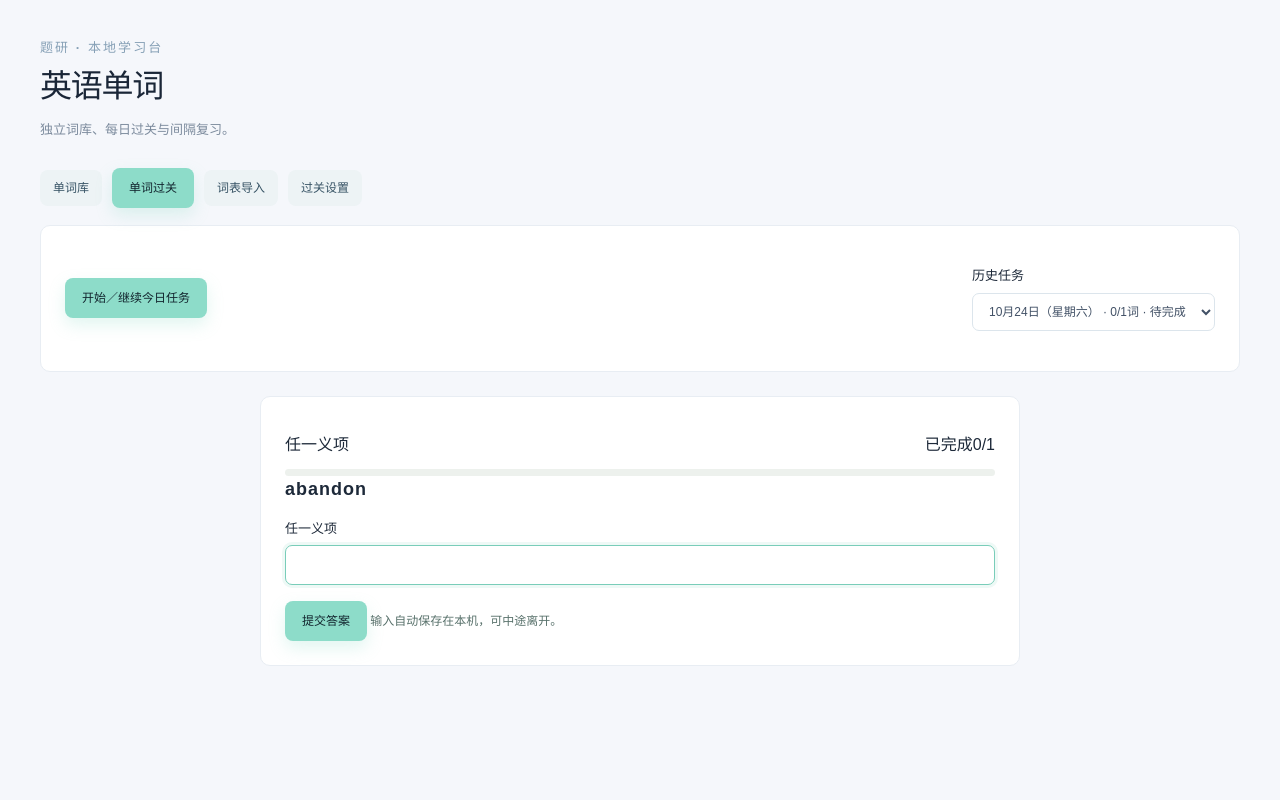
it: confirmed study workflows › shows a failed word answer for explicit adjudication and finishes after acceptance
Expected: the heading "abandon" is shown, [285,479,367,499]
Expected: the text "放弃" is not shown
Type "放下" into the field named "中文义项1" at (640, 565), box [285,545,995,585]
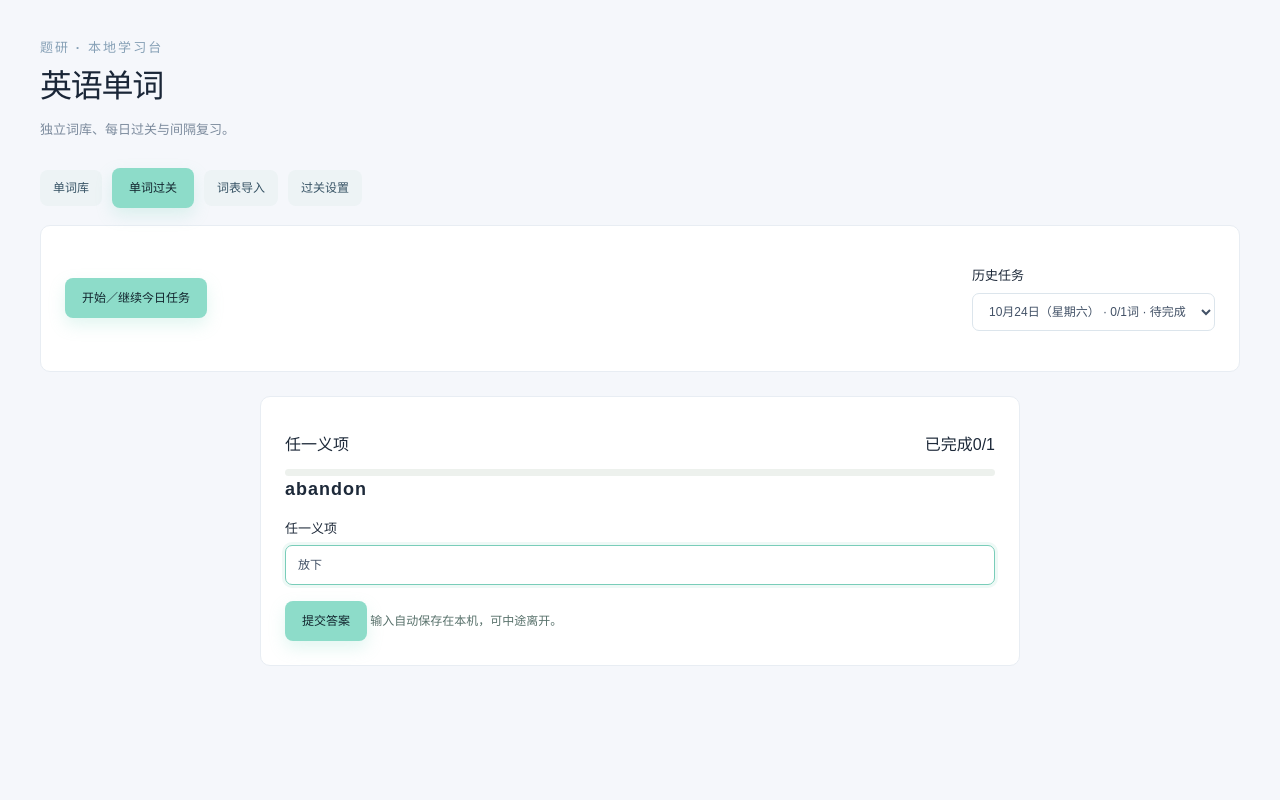
Click the button "提交答案" at (326, 621), box [285,601,367,641]
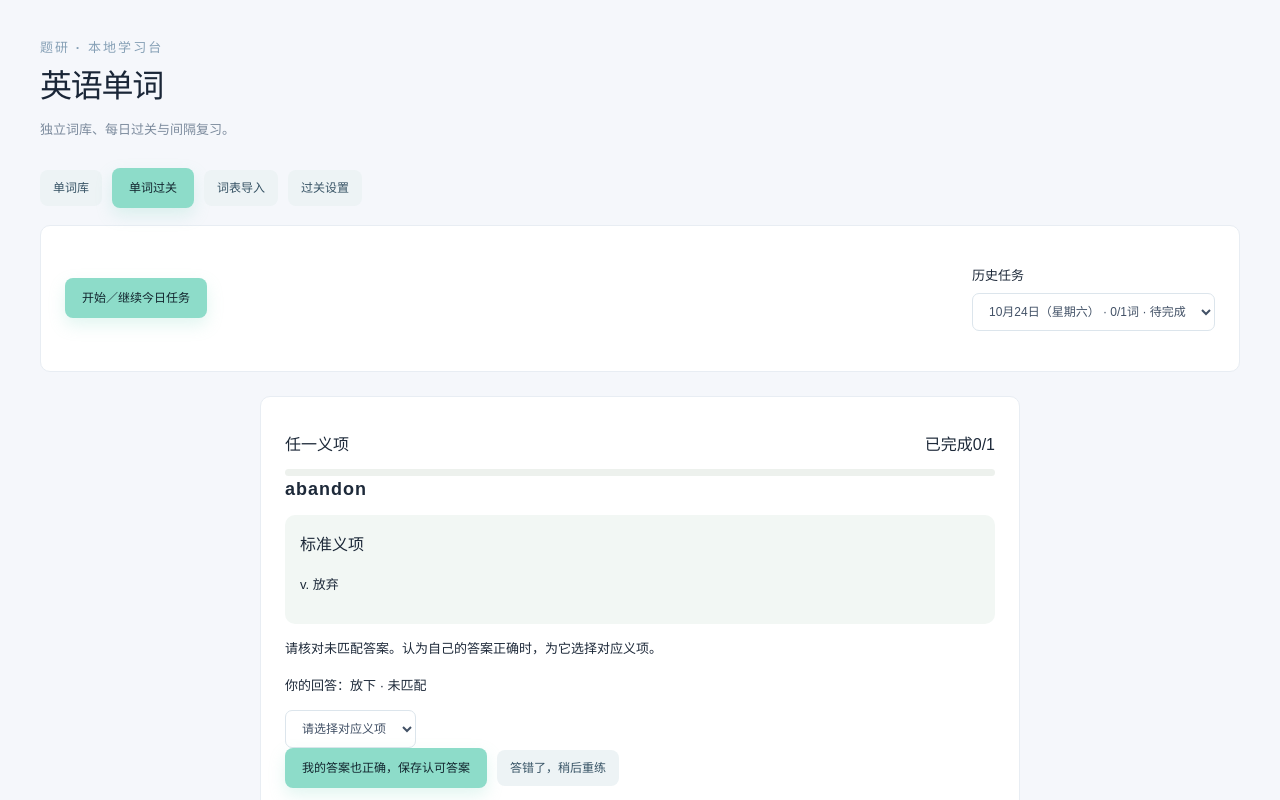
Result: the text "标准义项" is shown at [300,536,364,553]
Select "v. 放弃" in the dropdown named "认可回答1的义项" at (350, 729), box [285,710,416,748]
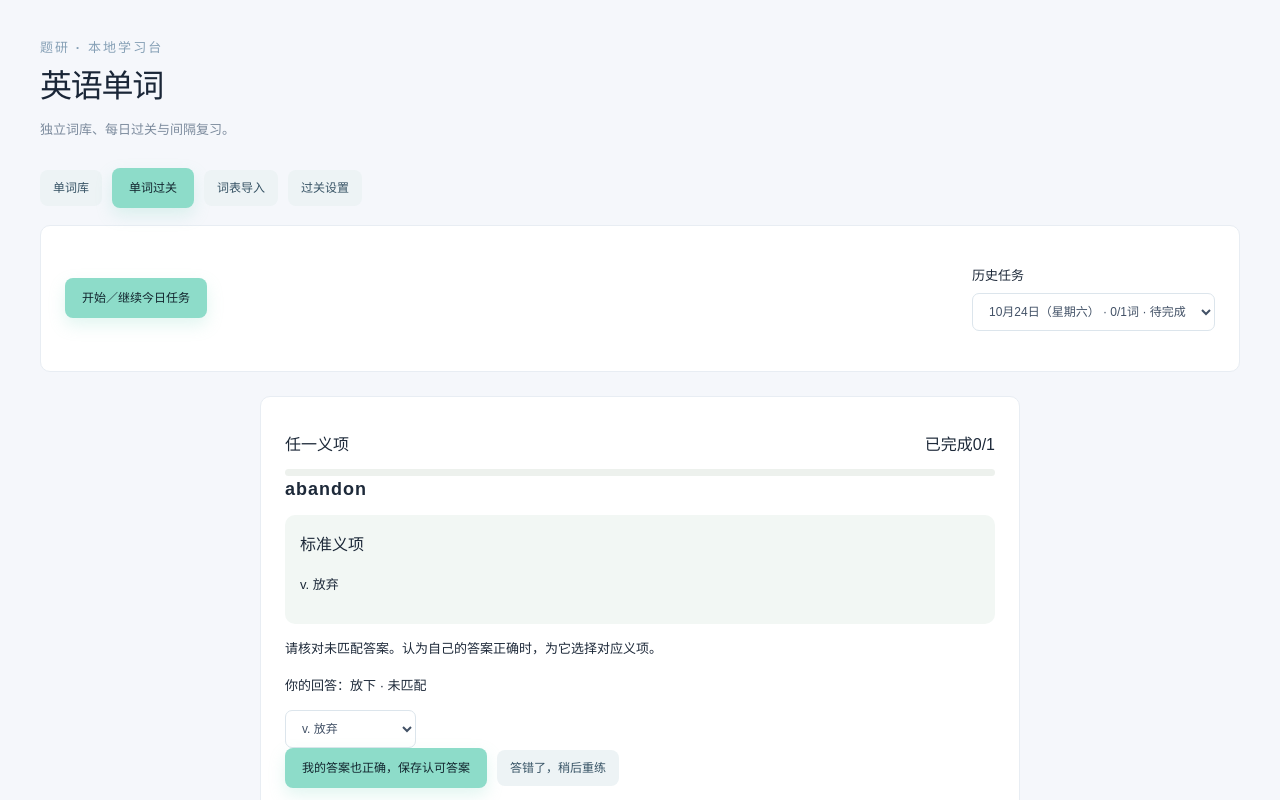
Click the button "我的答案也正确，保存认可答案" at (386, 768), box [285,748,487,788]
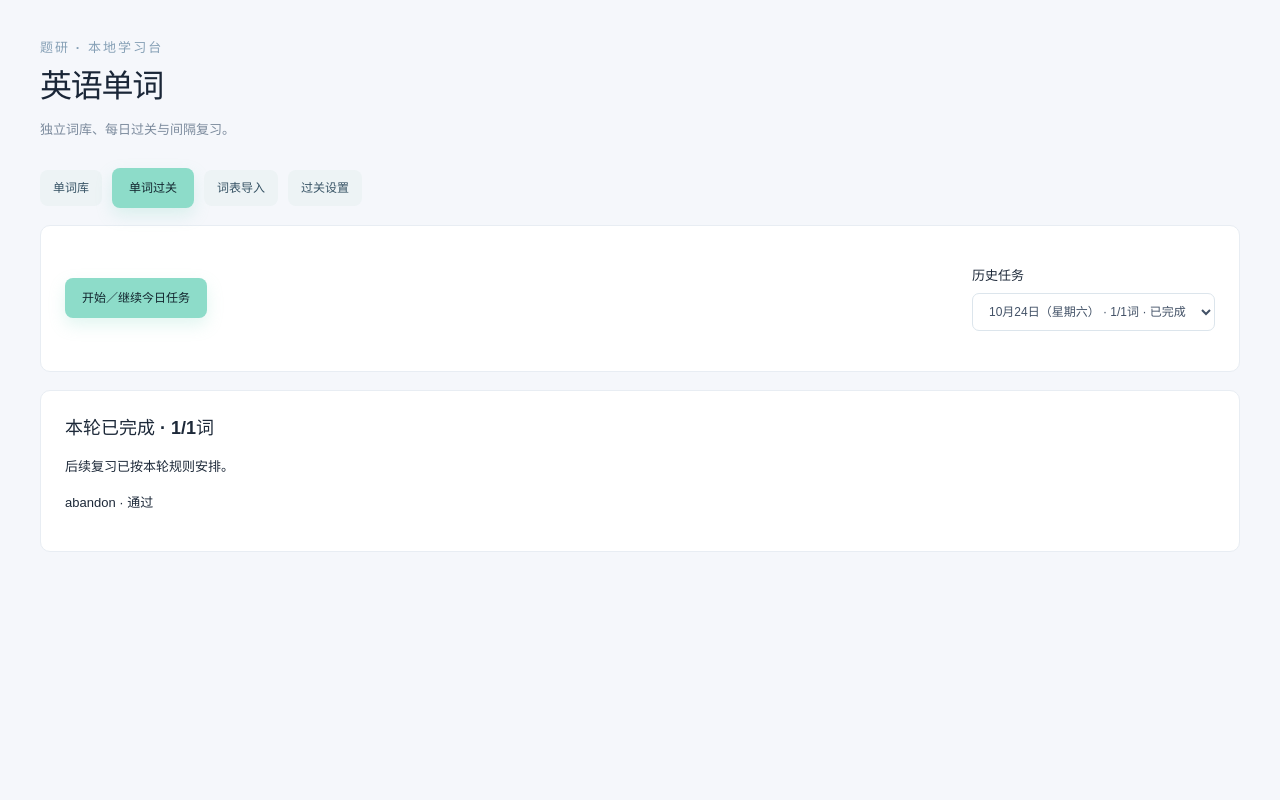
Result: the heading "本轮已完成 · 1/1词" is shown at [65,418,214,438]
